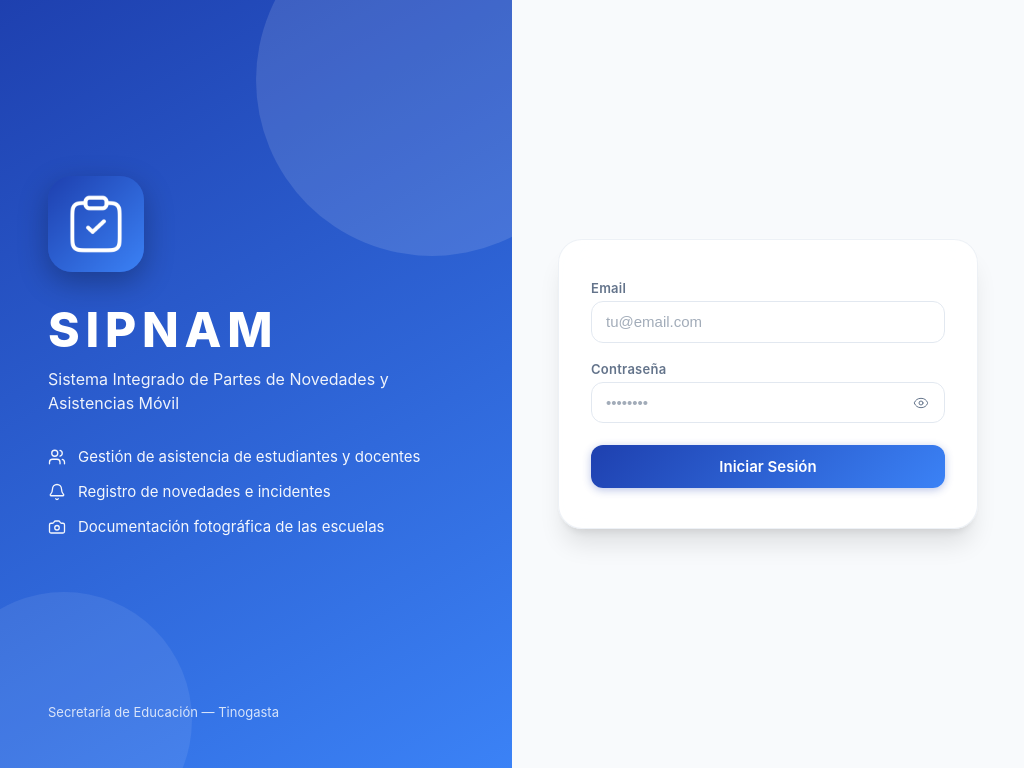
Test case: Login › mapea errores de Firebase a mensajes amigables
This screenshot has width=1024, height=768.
Type "test@test.com" into the field labelled "Email" at (768, 322), box [591,301,945,342]
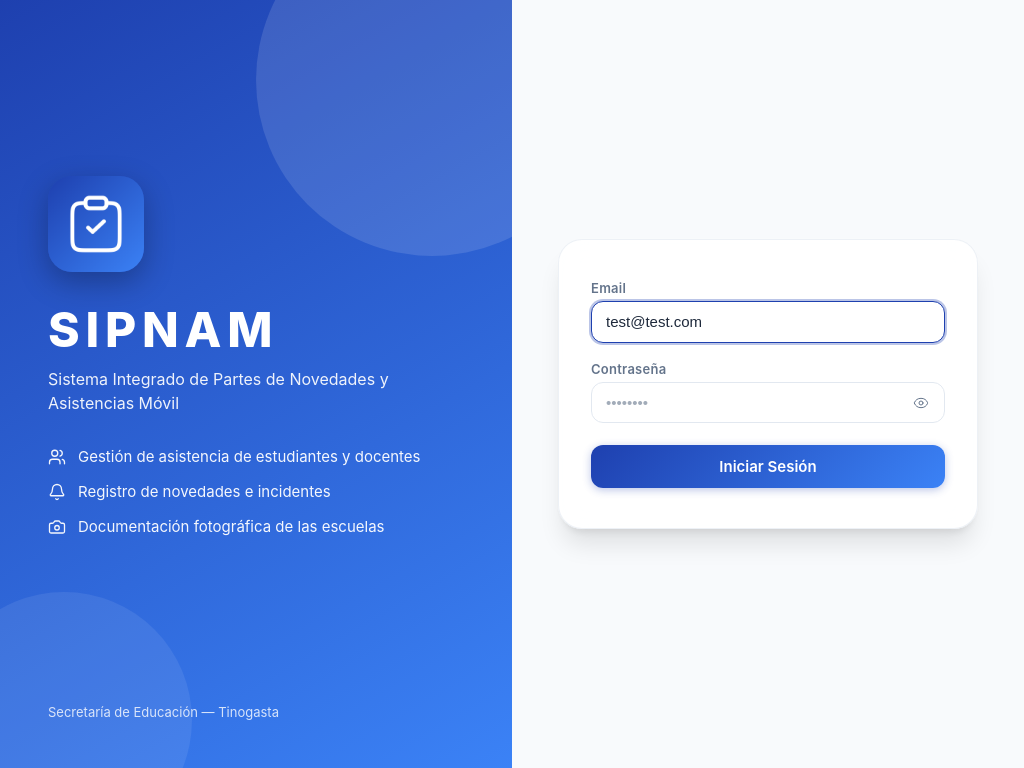
Type "wrong" into the password field labelled "Contraseña" at (768, 403), box [591,382,945,424]
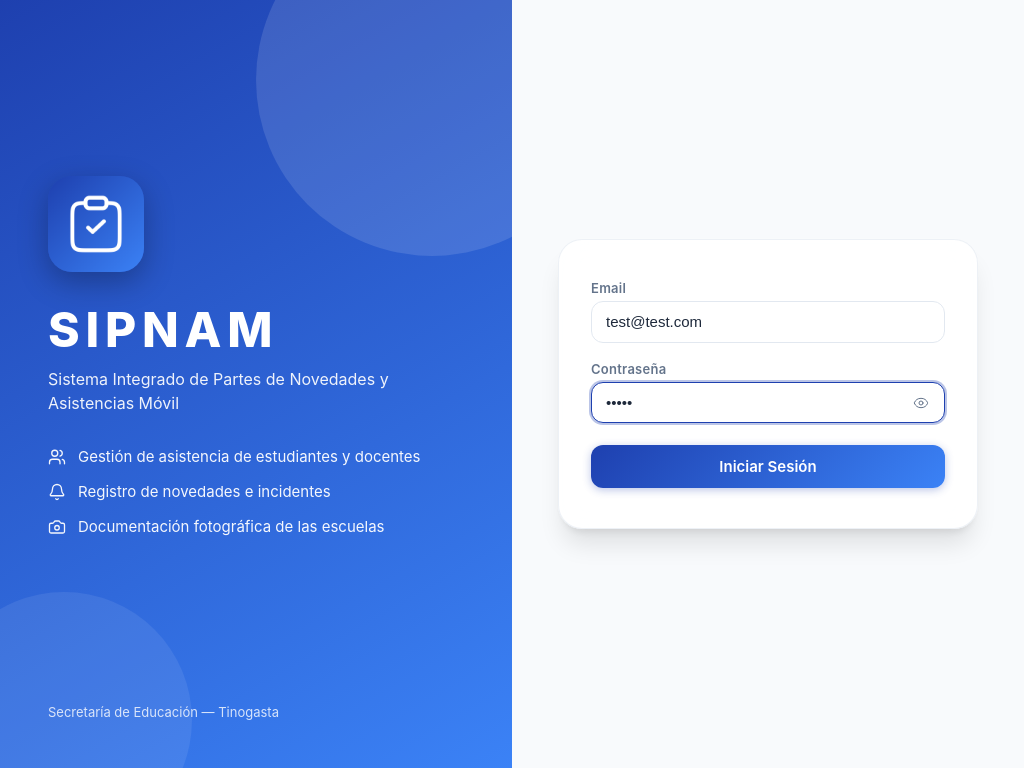
Click the button "Iniciar Sesión" at (768, 467), box [591,446,945,488]
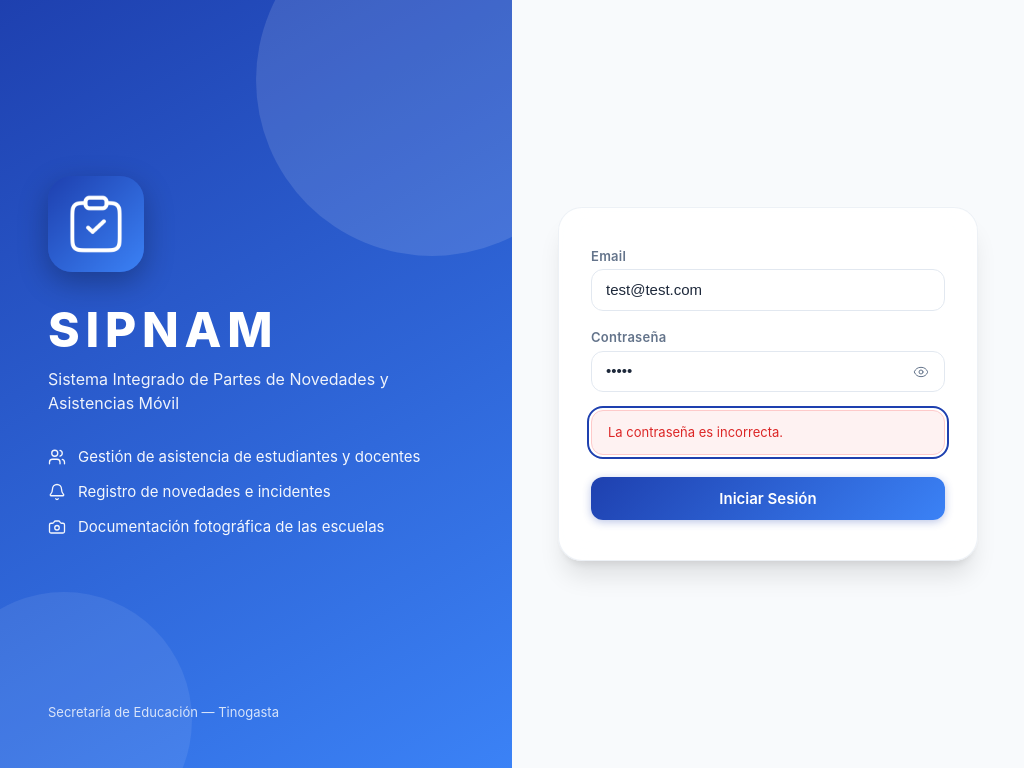
Now the text "La contraseña es incorrecta." is shown, box [591,410,945,455]
